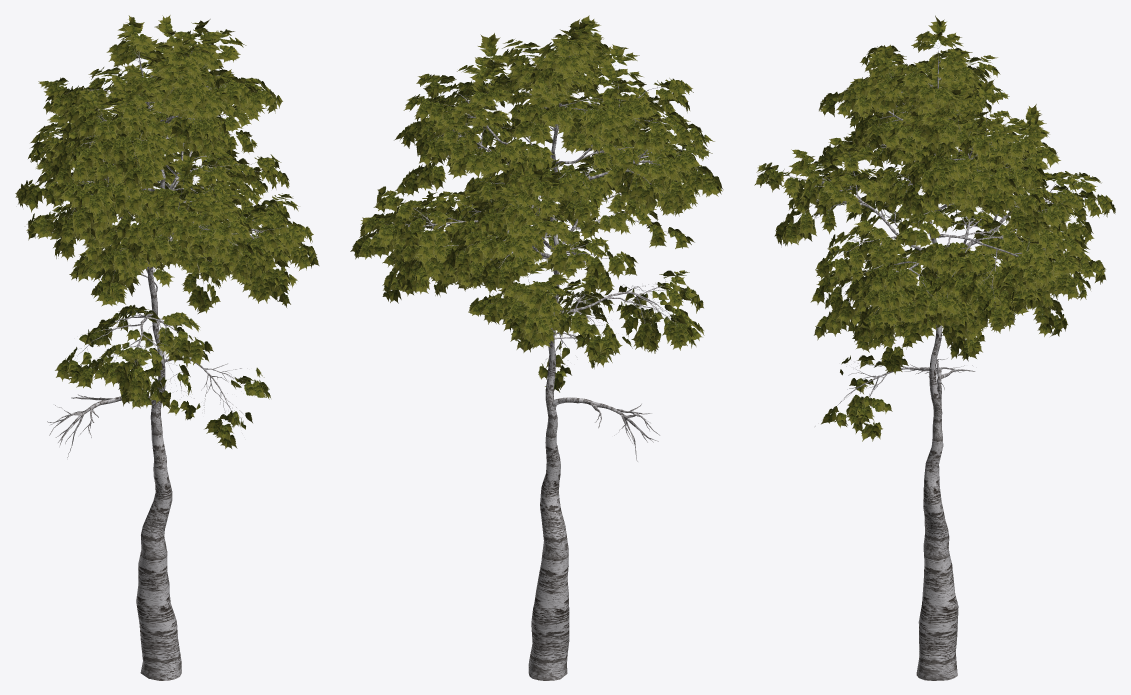
File: tree_aspen_lod0.glb
3 renders of one model, left to right at view 1: azimuth 30°, elevation 25°; view 2: azimuth 150°, elevation 25°; view 3: azimuth 270°, elevation 25°, orthographic. The views are drawn at different scales.
Visible parts, largest first — view 1: aspen2_LOD0; view 2: aspen2_LOD0; view 3: aspen2_LOD0.
Part boxes in pixels (x1,y1,x2,y2): aspen2_LOD0: (15, 15, 319, 680); aspen2_LOD0: (350, 15, 723, 680); aspen2_LOD0: (754, 15, 1115, 680).
Size of the model in its own units: 3.64 by 7.55 by 3.86.
Materials: 2 (2 with a texture image).
